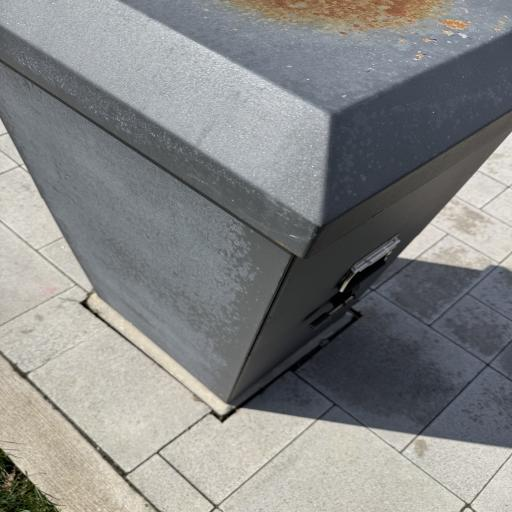Electrical Box: (1, 3, 512, 401)
